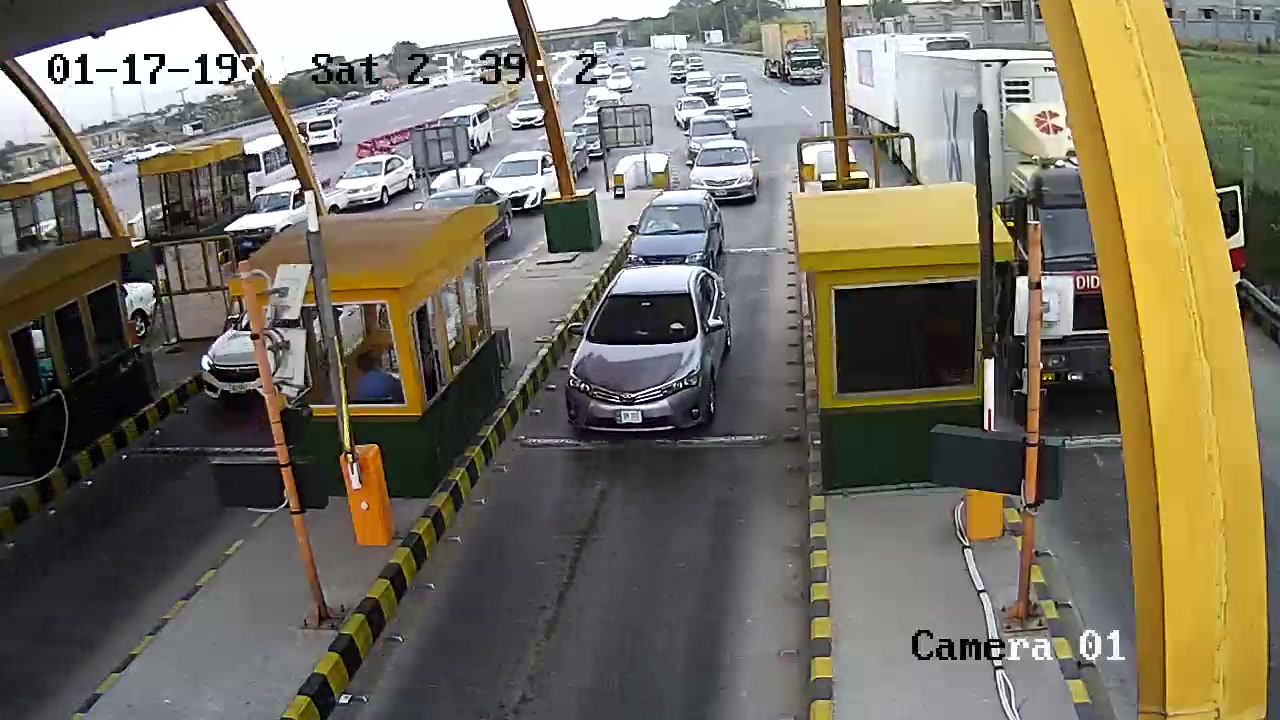F1: (551, 260, 746, 440)
